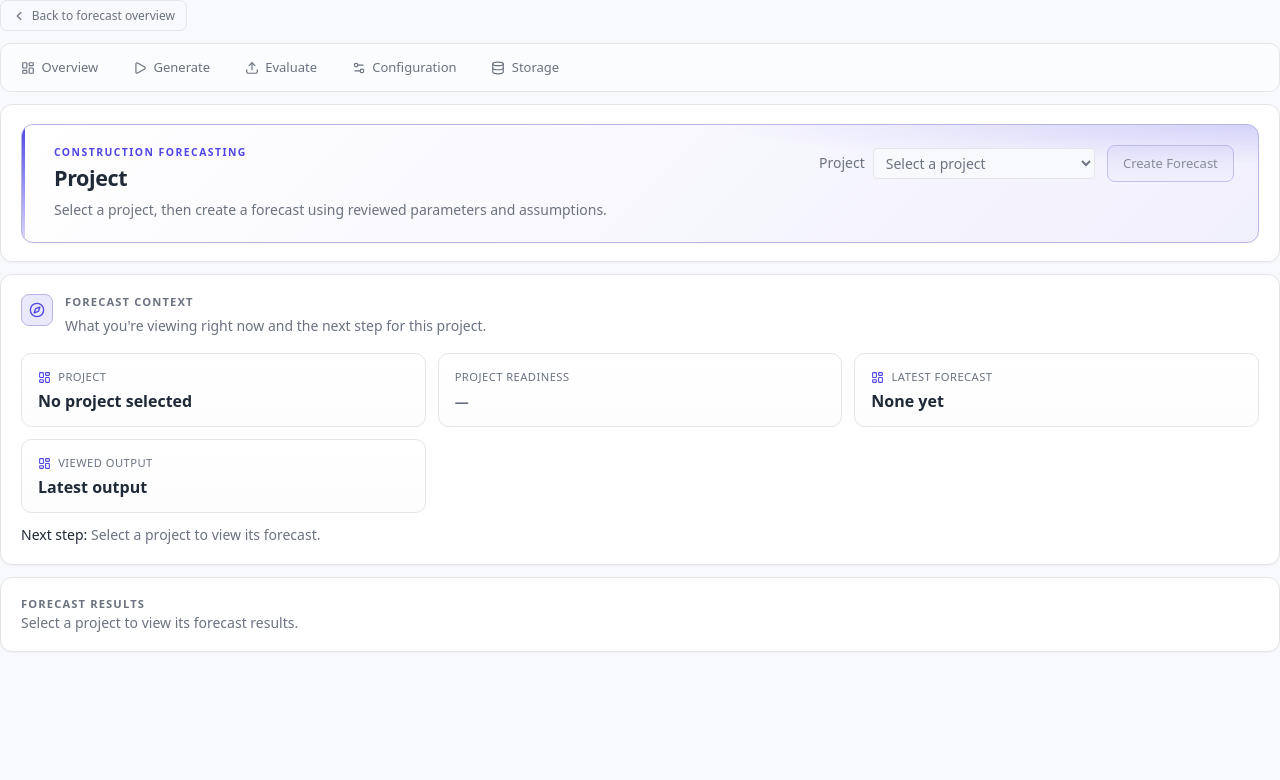
it: ForecastRunCenterPage history modal › opens a reconciled history modal from Forecast Context with saved outputs and request status
Select "Tropical Resort" in the dropdown named "Forecast project": (984, 163) [873,148,1095,179]
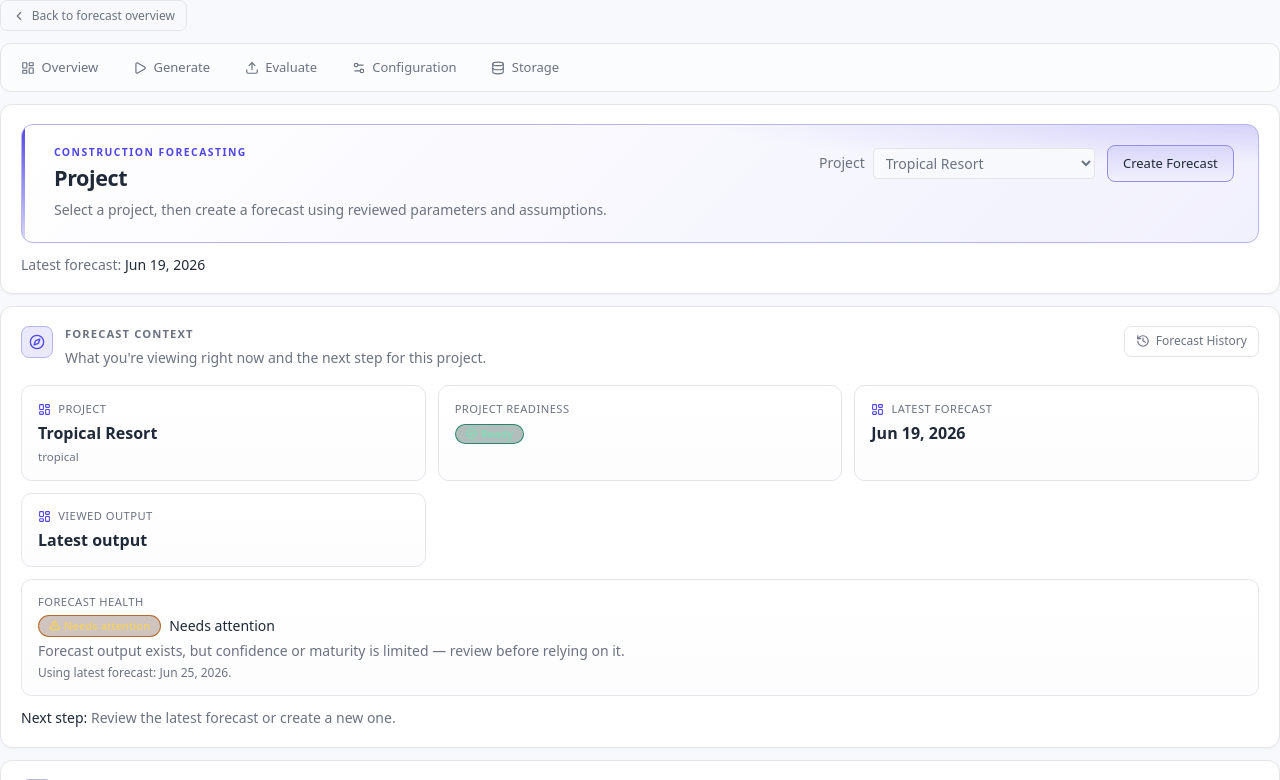
Click the button "Forecast History": (1192, 341) [1124,326,1259,357]
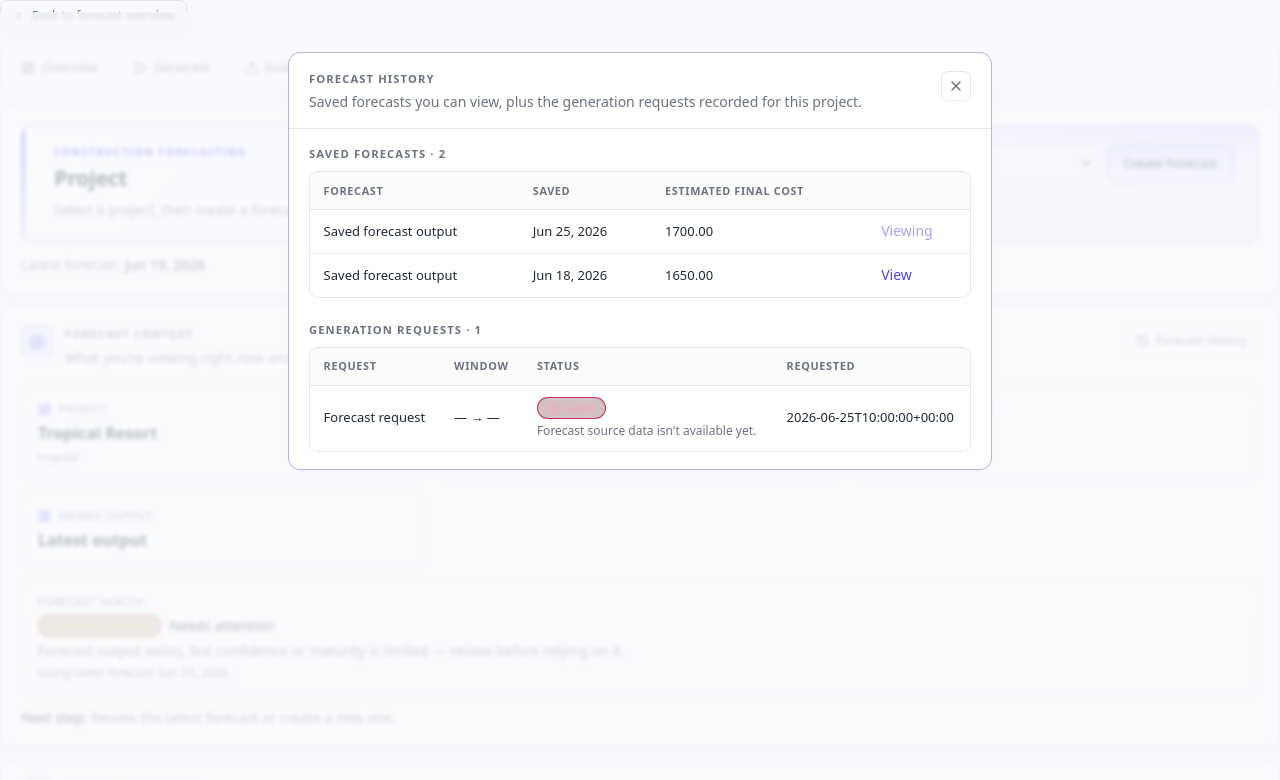
Check: the text "Saved forecast output" is shown 2 times, box [310,210,519,254]; [310,254,519,297]
Check: the button "View" is shown, box [881,265,912,285]
Check: the button "Viewing" is shown, box [881,221,933,241]
